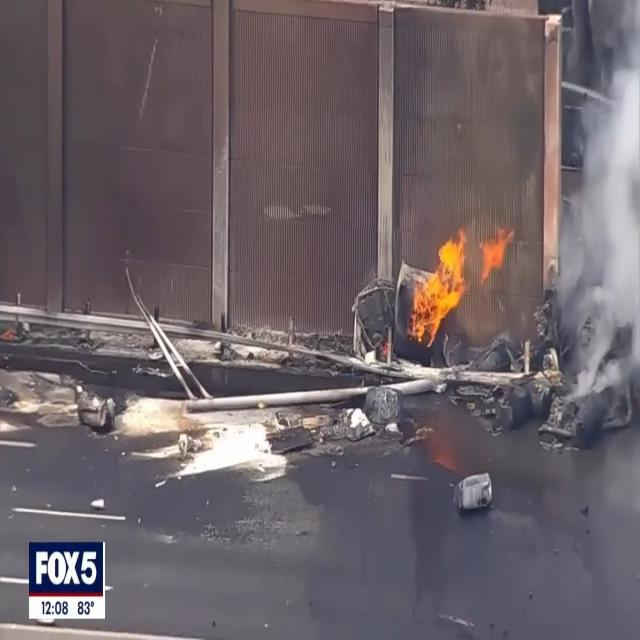fire: (410, 224, 515, 348)
